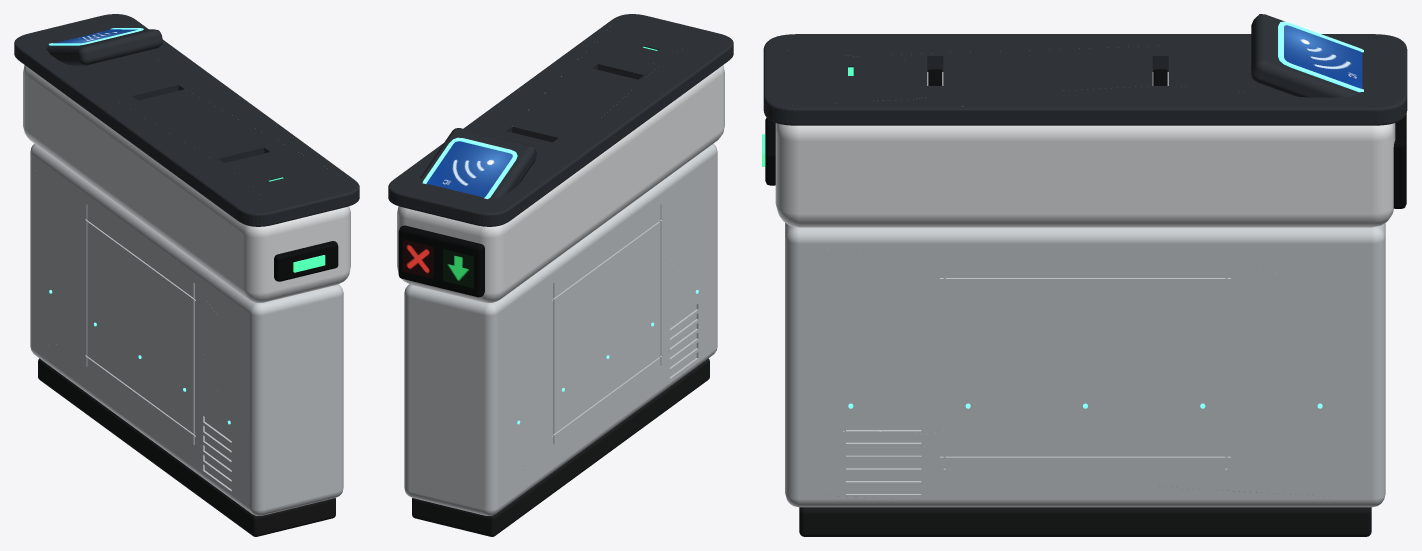
Rendered from gate_unit.glb.
The picture shows the model from 3 angles, left to right: view 1: azimuth 30°, elevation 25°; view 2: azimuth 150°, elevation 25°; view 3: azimuth 270°, elevation 25°; orthographic projection. The views are drawn at different scales.
Parts seen in each view (by area): view 1: Body, TopSlab, Housing, GateParts_Rubber, GateParts_GateTop, GateParts_Black, ICPad; view 2: Body, TopSlab, Housing, GateParts_Rubber, ICPad, GateParts_Black, GateParts_GateTop, DisplayStop, DisplayGo, GateParts_LedCyan; view 3: Body, Housing, TopSlab, GateParts_Rubber, GateParts_GateTop, ICPad, GateParts_Black, GateParts_LedCyan.
Boxes of the visible parts, bbox=[...] form: Body: bbox=[30, 143, 343, 515]; TopSlab: bbox=[14, 14, 359, 226]; Housing: bbox=[23, 65, 350, 302]; GateParts_Rubber: bbox=[38, 358, 335, 536]; GateParts_GateTop: bbox=[46, 29, 162, 65]; GateParts_Black: bbox=[274, 241, 338, 281]; ICPad: bbox=[55, 29, 137, 43]; Body: bbox=[404, 143, 717, 515]; TopSlab: bbox=[388, 14, 733, 226]; Housing: bbox=[397, 65, 724, 302]; GateParts_Rubber: bbox=[412, 358, 709, 536]; ICPad: bbox=[426, 141, 512, 197]; GateParts_Black: bbox=[398, 225, 484, 297]; GateParts_GateTop: bbox=[420, 128, 536, 198]; DisplayStop: bbox=[402, 239, 433, 278]; DisplayGo: bbox=[443, 249, 473, 288]; GateParts_LedCyan: bbox=[422, 137, 698, 424]; Body: bbox=[785, 223, 1385, 507]; Housing: bbox=[775, 72, 1395, 227]; TopSlab: bbox=[763, 34, 1407, 125]; GateParts_Rubber: bbox=[799, 491, 1371, 536]; GateParts_GateTop: bbox=[1251, 14, 1358, 97]; ICPad: bbox=[1284, 25, 1362, 88]; GateParts_Black: bbox=[765, 69, 1406, 208]; GateParts_LedCyan: bbox=[848, 21, 1363, 408].
Bounding box in the file's own units: 0.3821 × 1.12 × 1.38.
11 materials, 3 textured.
